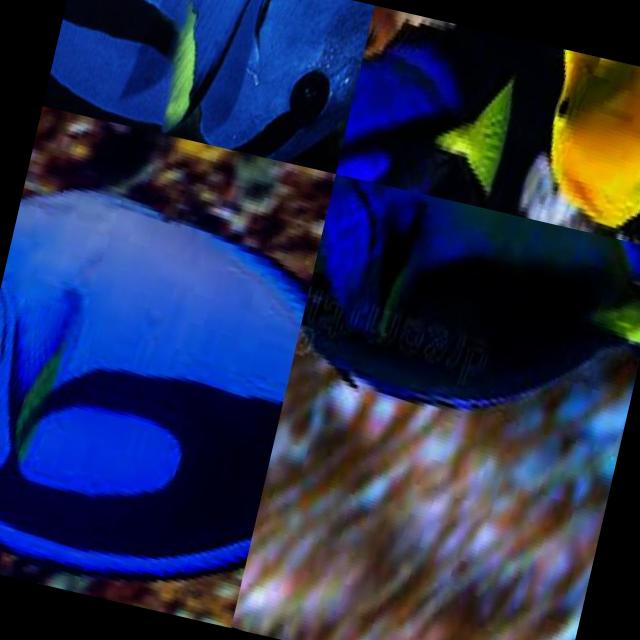BlueTang: (0, 128, 329, 627), (275, 172, 640, 505), (41, 0, 373, 172), (334, 4, 546, 212)
